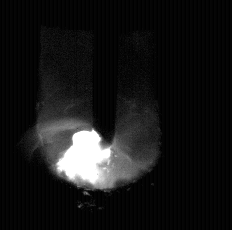arame: (92, 0, 118, 146)
poca: (36, 0, 161, 230)
